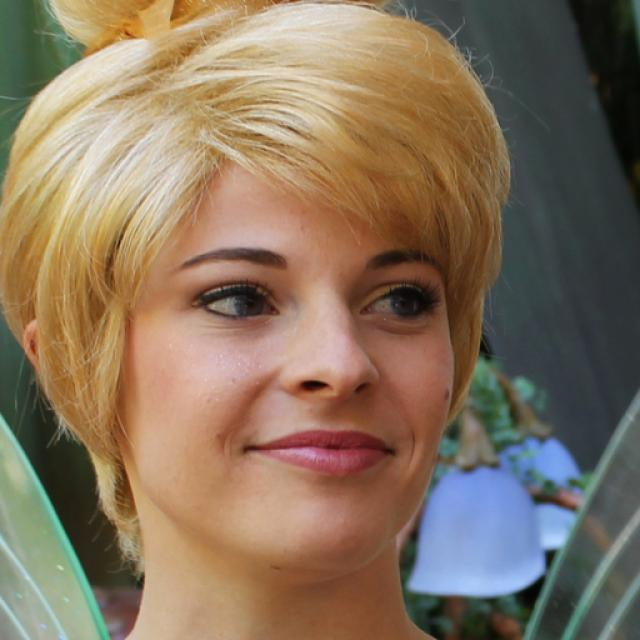content: (119, 138, 458, 568)
